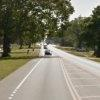Tree: (5, 2, 39, 59)
